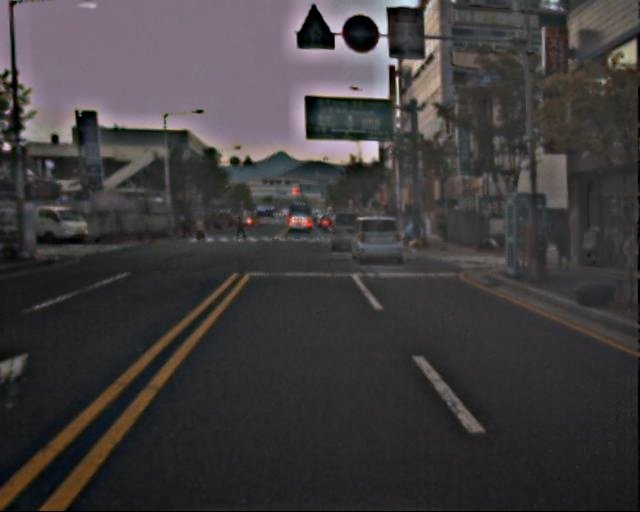person: (550, 211, 574, 269), (178, 211, 191, 243), (236, 213, 249, 244), (195, 216, 206, 244)
